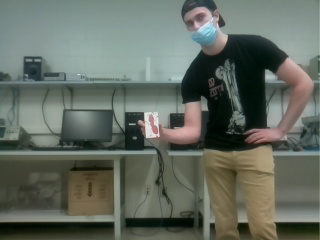Happy: (144, 112, 159, 138)
